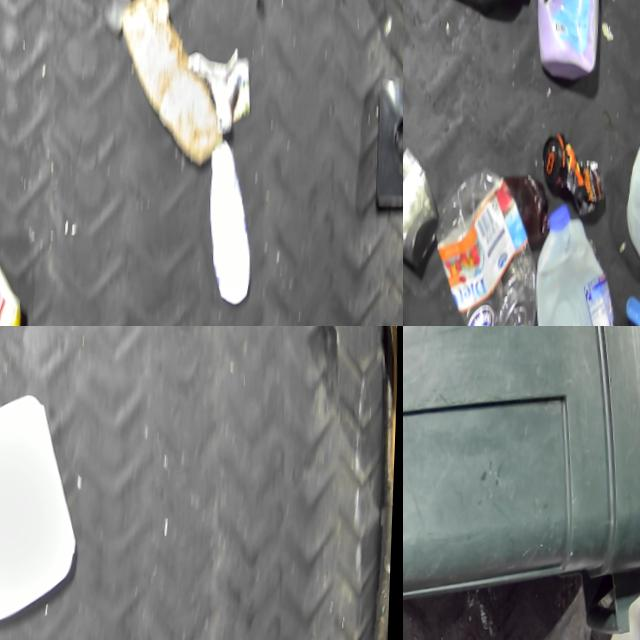can: (403, 143, 445, 266), (0, 250, 28, 326)
milk_jug: (0, 383, 87, 633), (530, 195, 623, 326), (597, 568, 640, 640)
non_white_jug: (530, 0, 606, 79)
plastic_bottle: (432, 158, 547, 326)
